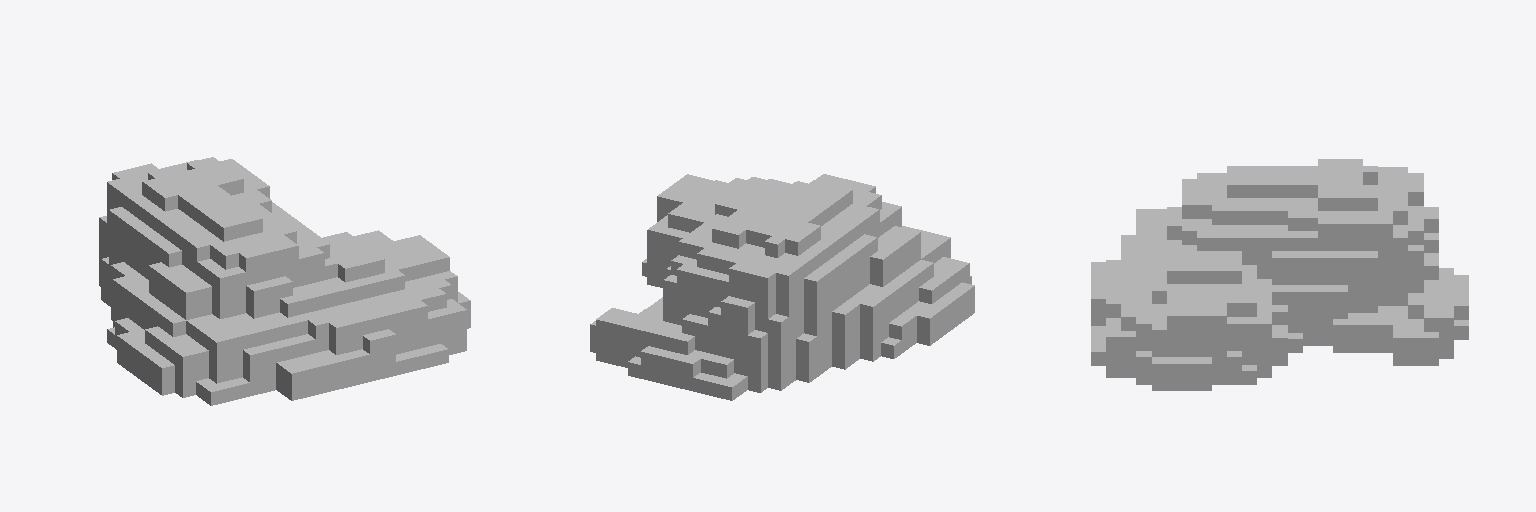
Rendered from Rock_3.obj.
3 renders of one model, left to right at view 1: azimuth 30°, elevation 25°; view 2: azimuth 150°, elevation 25°; view 3: azimuth 270°, elevation 25°, orthographic.
Parts seen in each view (by area): view 1: object 1; view 2: object 1; view 3: object 1.
Part boxes in pixels (left/top/right/bottom): object 1: left=99, top=157, right=470, bottom=405; object 1: left=590, top=174, right=974, bottom=400; object 1: left=1091, top=159, right=1468, bottom=390.
Size of the model in its own units: 2.3 by 0.9 by 2.5.